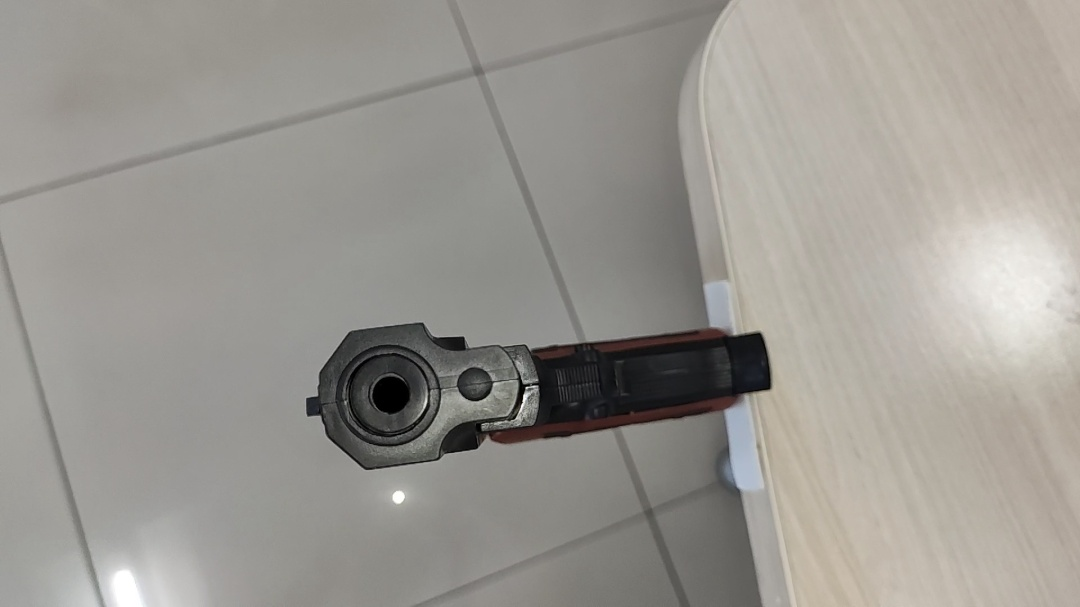gun: (307, 322, 776, 470)
